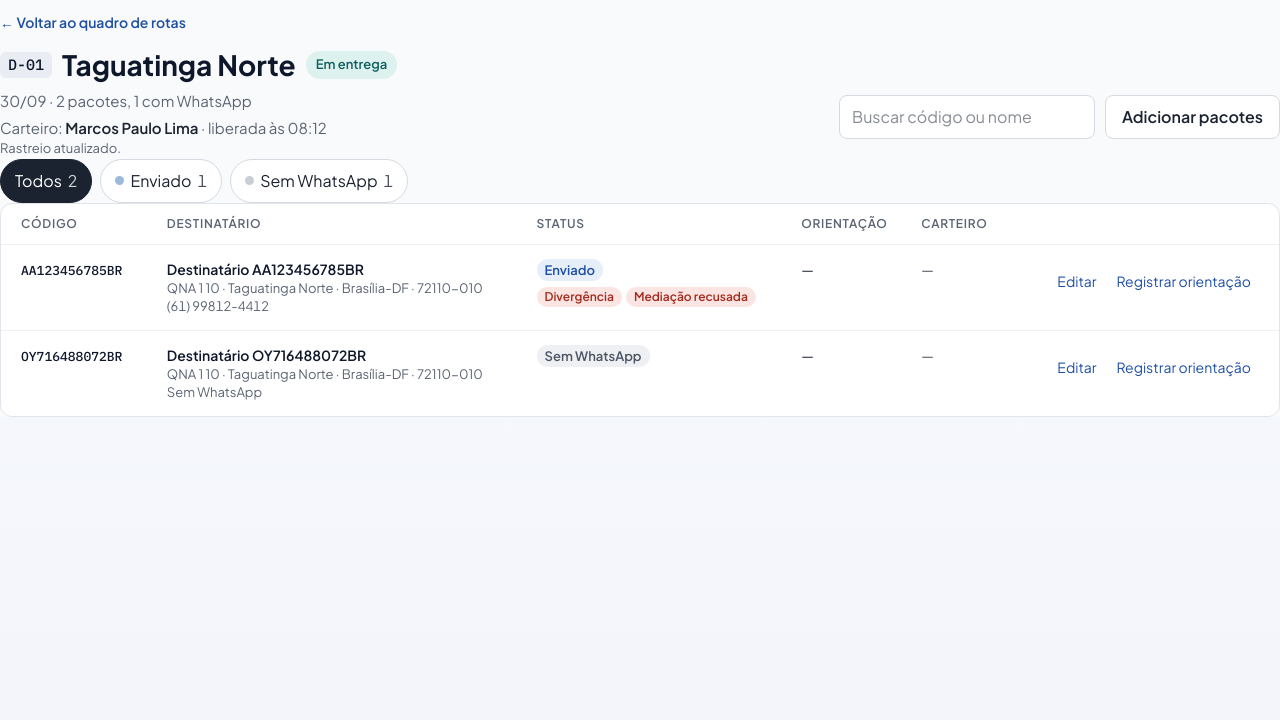
Lista de pacotes da rota (auditoria) › edição: avisa antes que o WhatsApp novo dispara o aviso, manda só o que mudou e confirma o envio
This screenshot has width=1280, height=720.
Click the button with aria-label "Editar OY716488072BR" at (1077, 367), box left=1049, top=345, right=1104, bottom=389
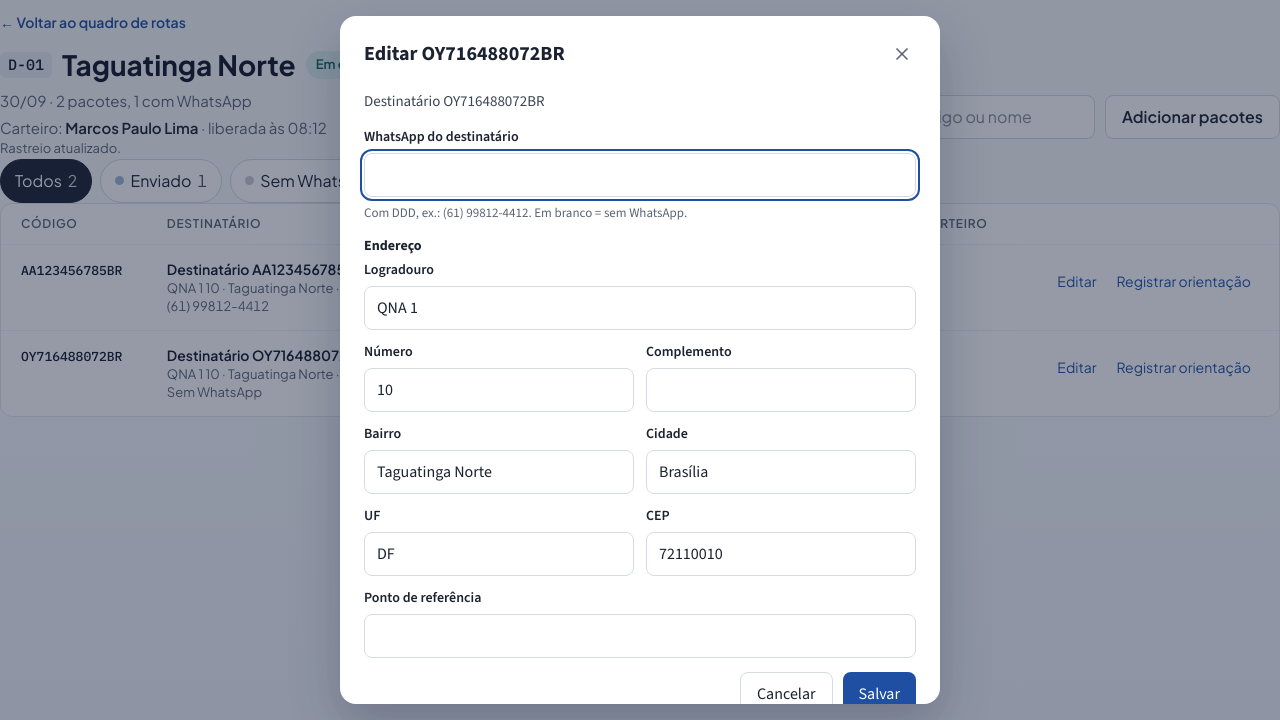
Type "(61) 98460-7712" into the field labelled "WhatsApp do destinatário" at (640, 174), box left=364, top=152, right=916, bottom=196
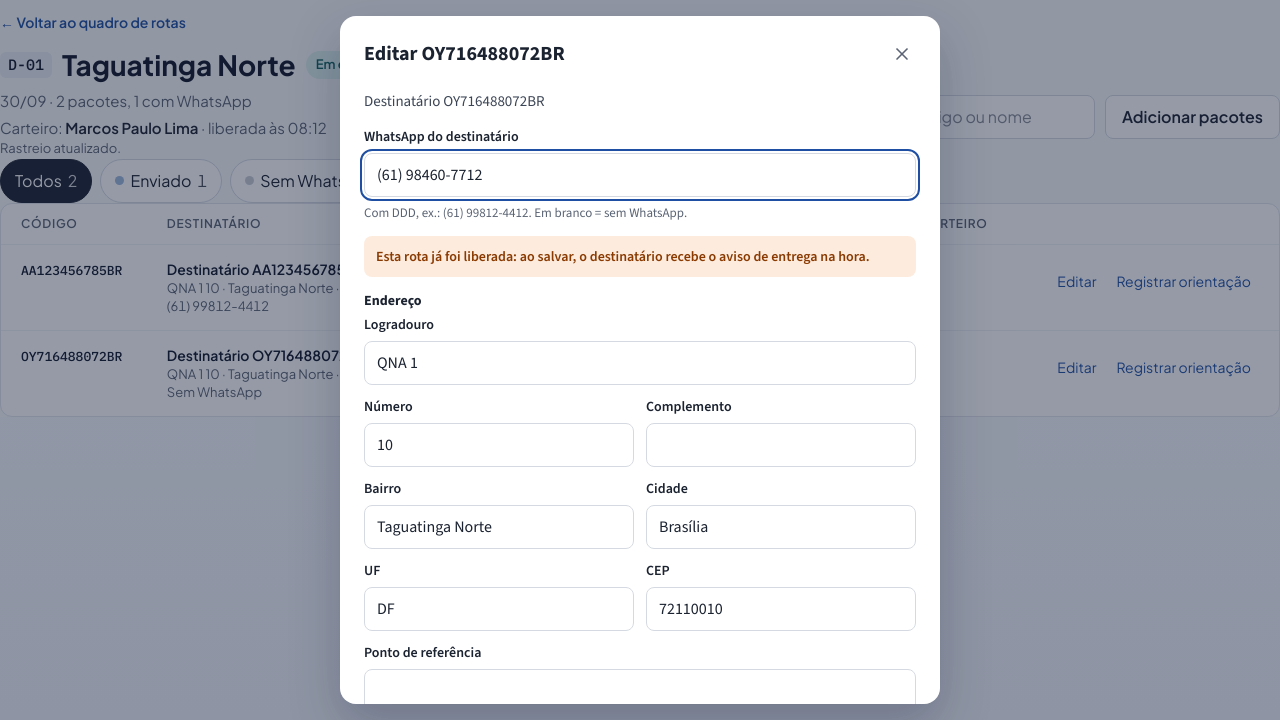
Check: the text "ao salvar, o destinatário recebe o aviso de entrega na hora" is shown, box left=376, top=247, right=870, bottom=266
Type "Casa 2" into the field labelled "Complemento" at (781, 445), box left=646, top=423, right=916, bottom=467
(page scrolled)
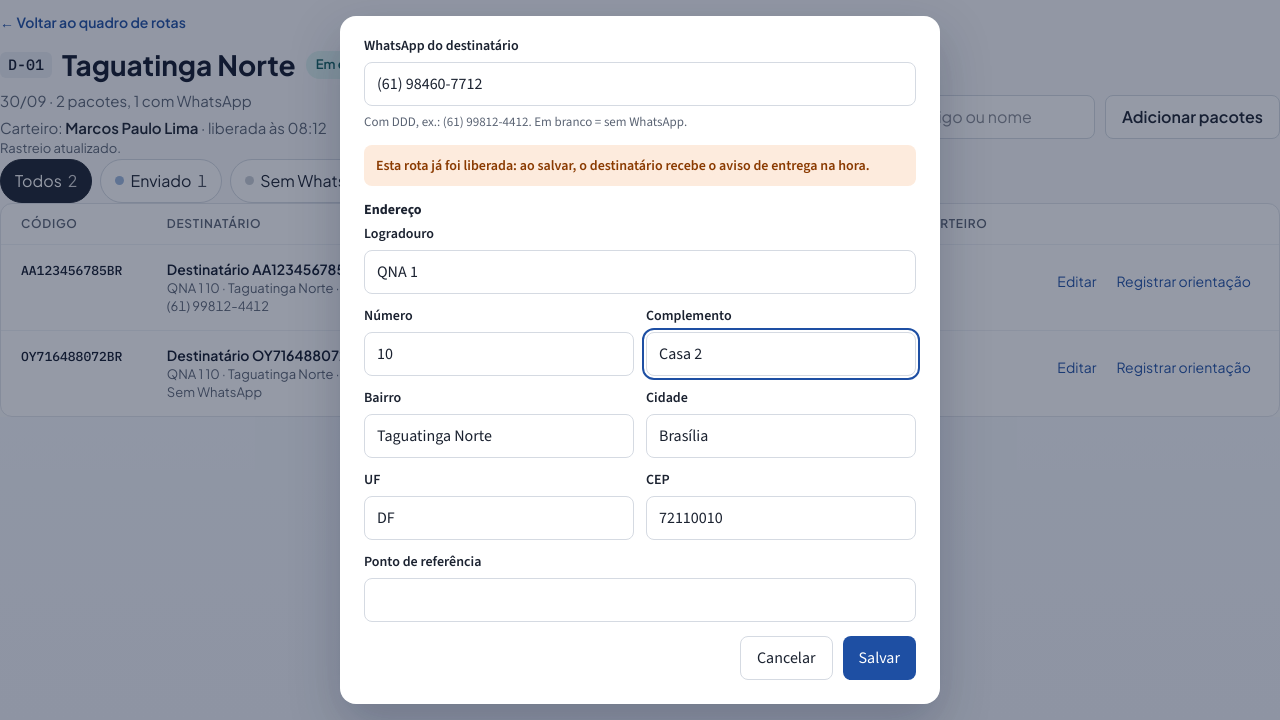
Click the button "Salvar" at (879, 658), box left=842, top=636, right=916, bottom=680
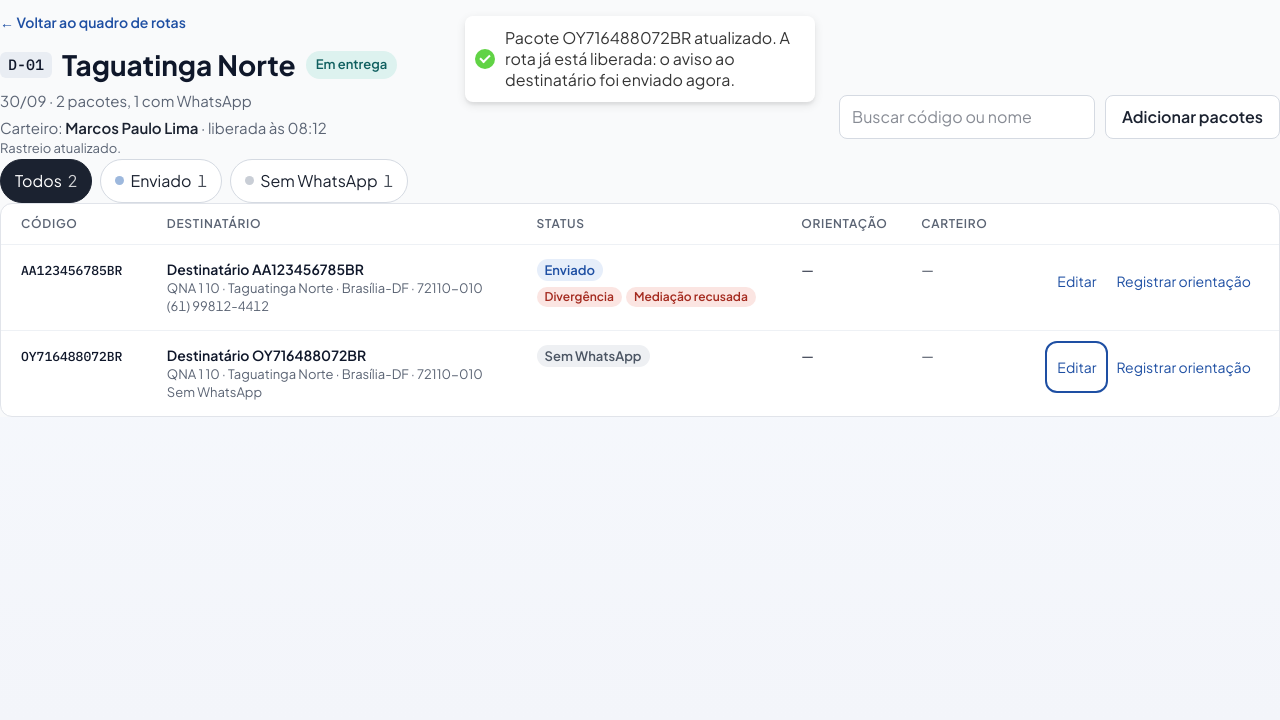
Check: the dialog is gone
Check: the text "o aviso ao destinatário foi enviado agora" is shown, box left=505, top=27, right=790, bottom=90
